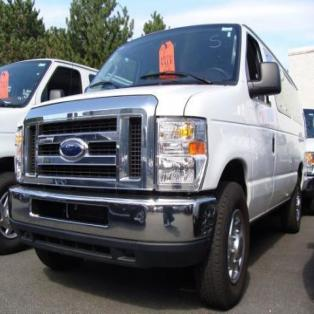Auto: (8, 19, 311, 310)
